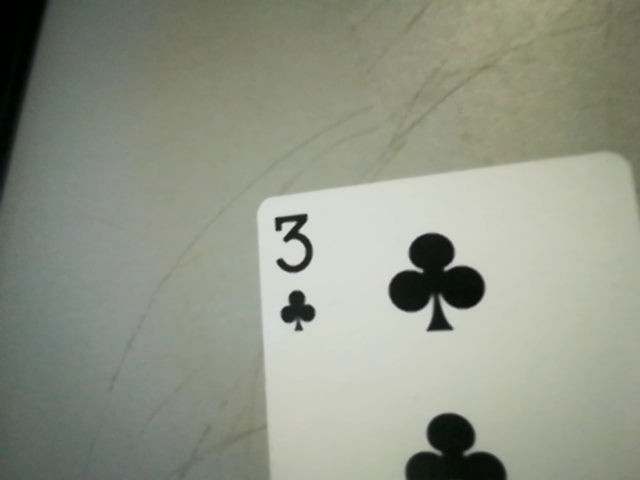mh 3: (259, 202, 328, 338)
